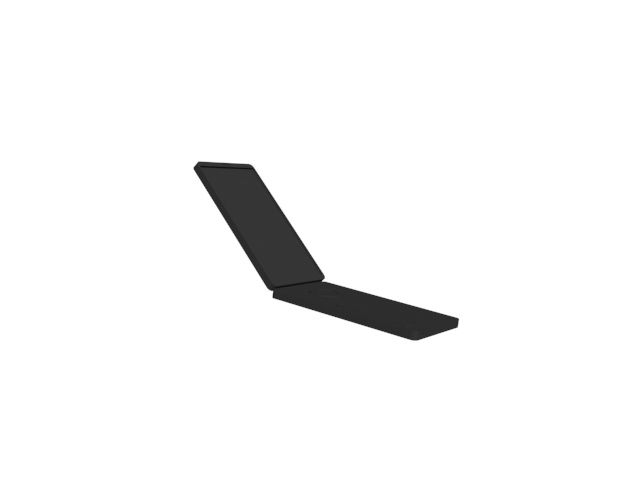mobile_phone: (193, 161, 464, 344)
